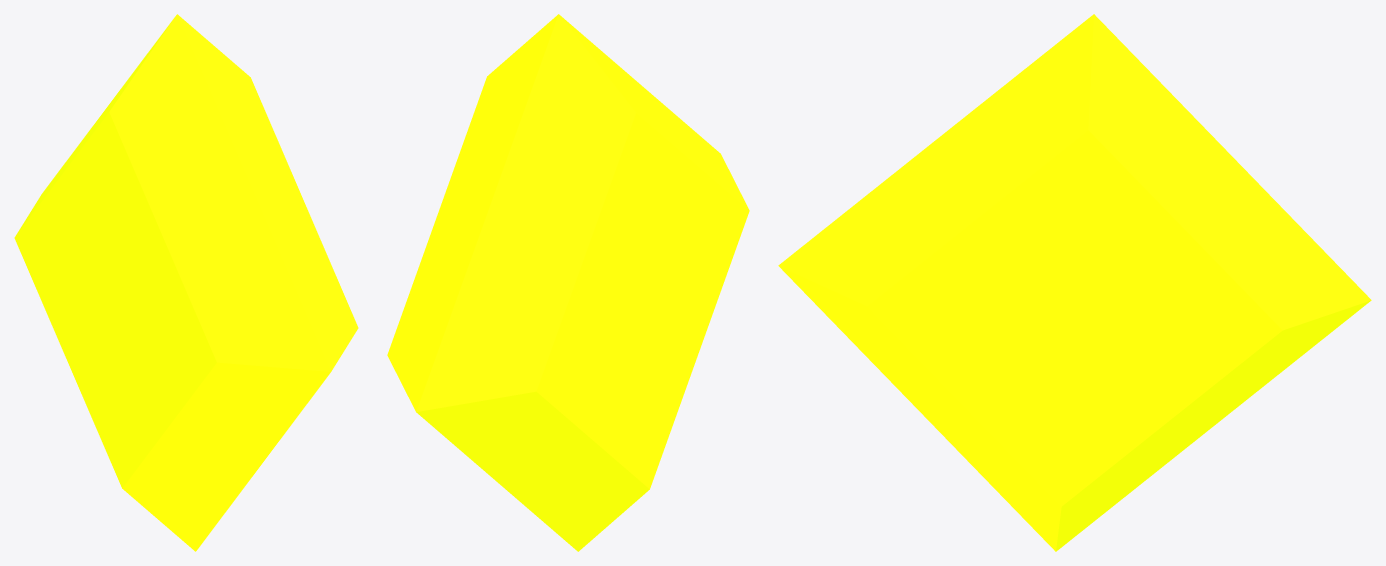
3 views of the same model, side by side, from view 1: azimuth 30°, elevation 25°; view 2: azimuth 150°, elevation 25°; view 3: azimuth 270°, elevation 25° (orthographic). The views are drawn at different scales.
Parts seen in each view (by area): view 1: Cube; view 2: Cube; view 3: Cube.
Part boxes in pixels (bbox=[...]): Cube: bbox=[14, 14, 358, 551]; Cube: bbox=[387, 14, 749, 551]; Cube: bbox=[778, 14, 1371, 551].
Size of the model in its own units: 82.59 by 292 by 292.
